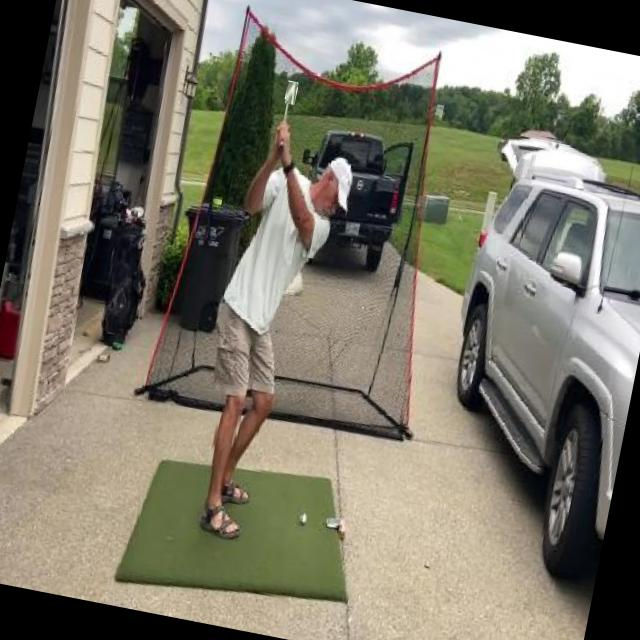club head: (285, 81, 299, 105)
